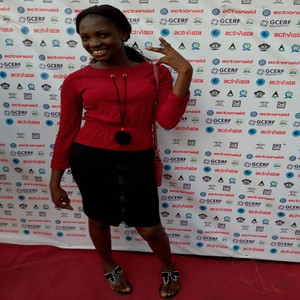Fulokoja_female_student: (68, 5, 169, 273)
